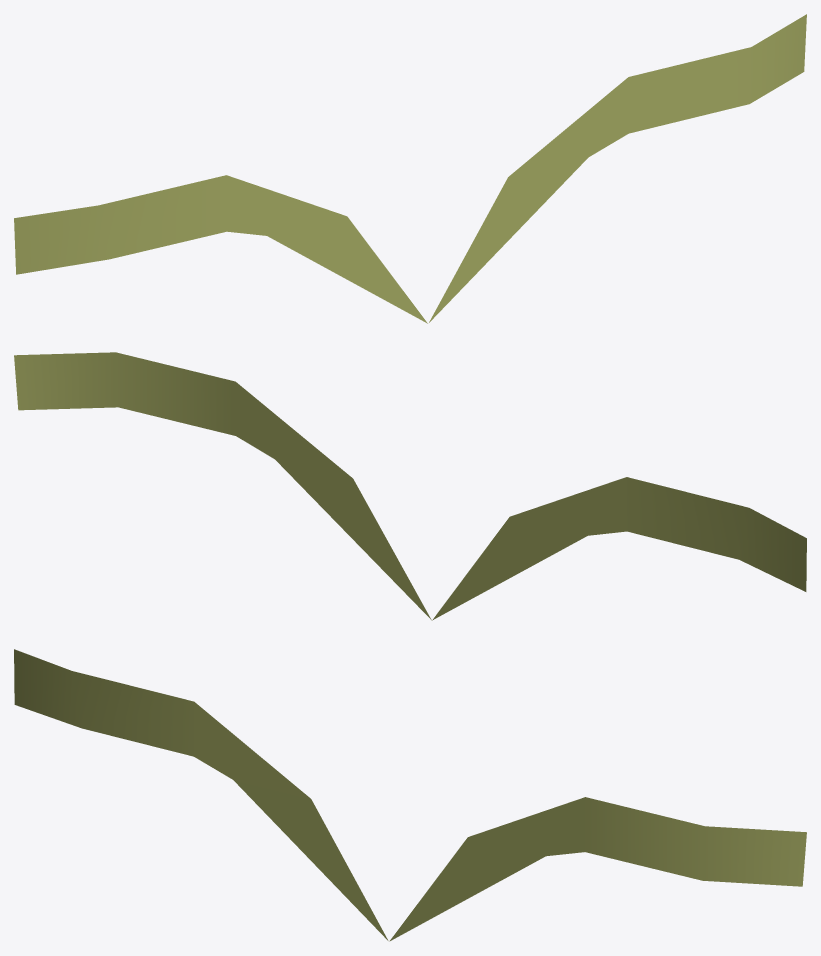
The model's file is whiskers-101.dae.
The picture shows the model from 3 angles, top to bottom: view 1: azimuth 30°, elevation 25°; view 2: azimuth 150°, elevation 25°; view 3: azimuth 330°, elevation 25°; orthographic projection. The views are drawn at different scales.
Parts seen in each view (by area): view 1: Plane_032; view 2: Plane_032; view 3: Plane_032.
Boxes of the visible parts, <box> form: Plane_032: <box>14,14,806,323</box>; Plane_032: <box>14,352,806,620</box>; Plane_032: <box>14,649,806,941</box>.
Size of the model in its own units: 2 by 0.1094 by 0.469.
